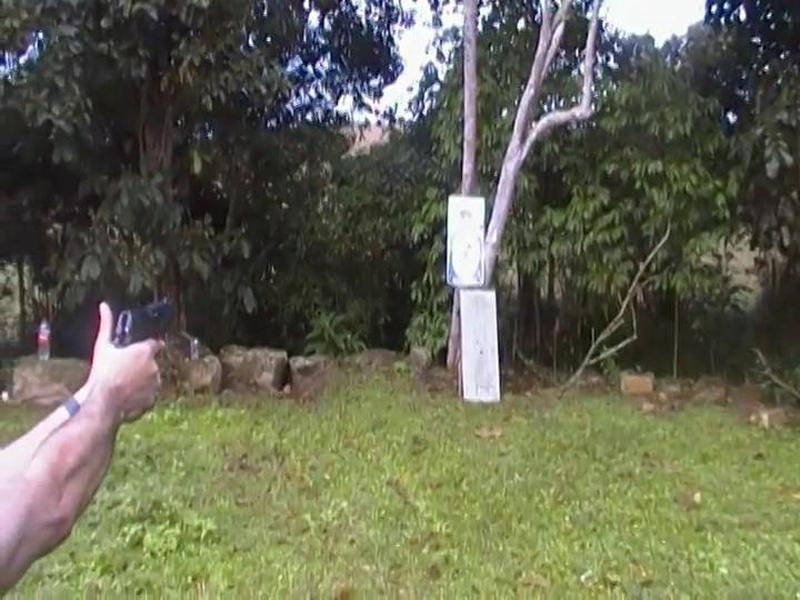Pistola: (78, 274, 205, 390)
